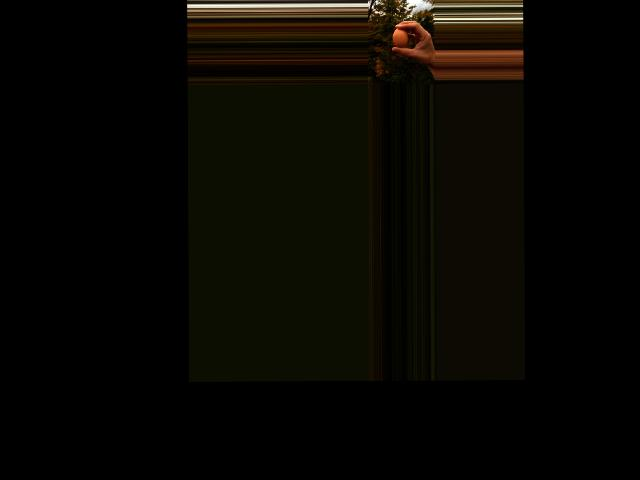egg: (392, 27, 407, 48)
